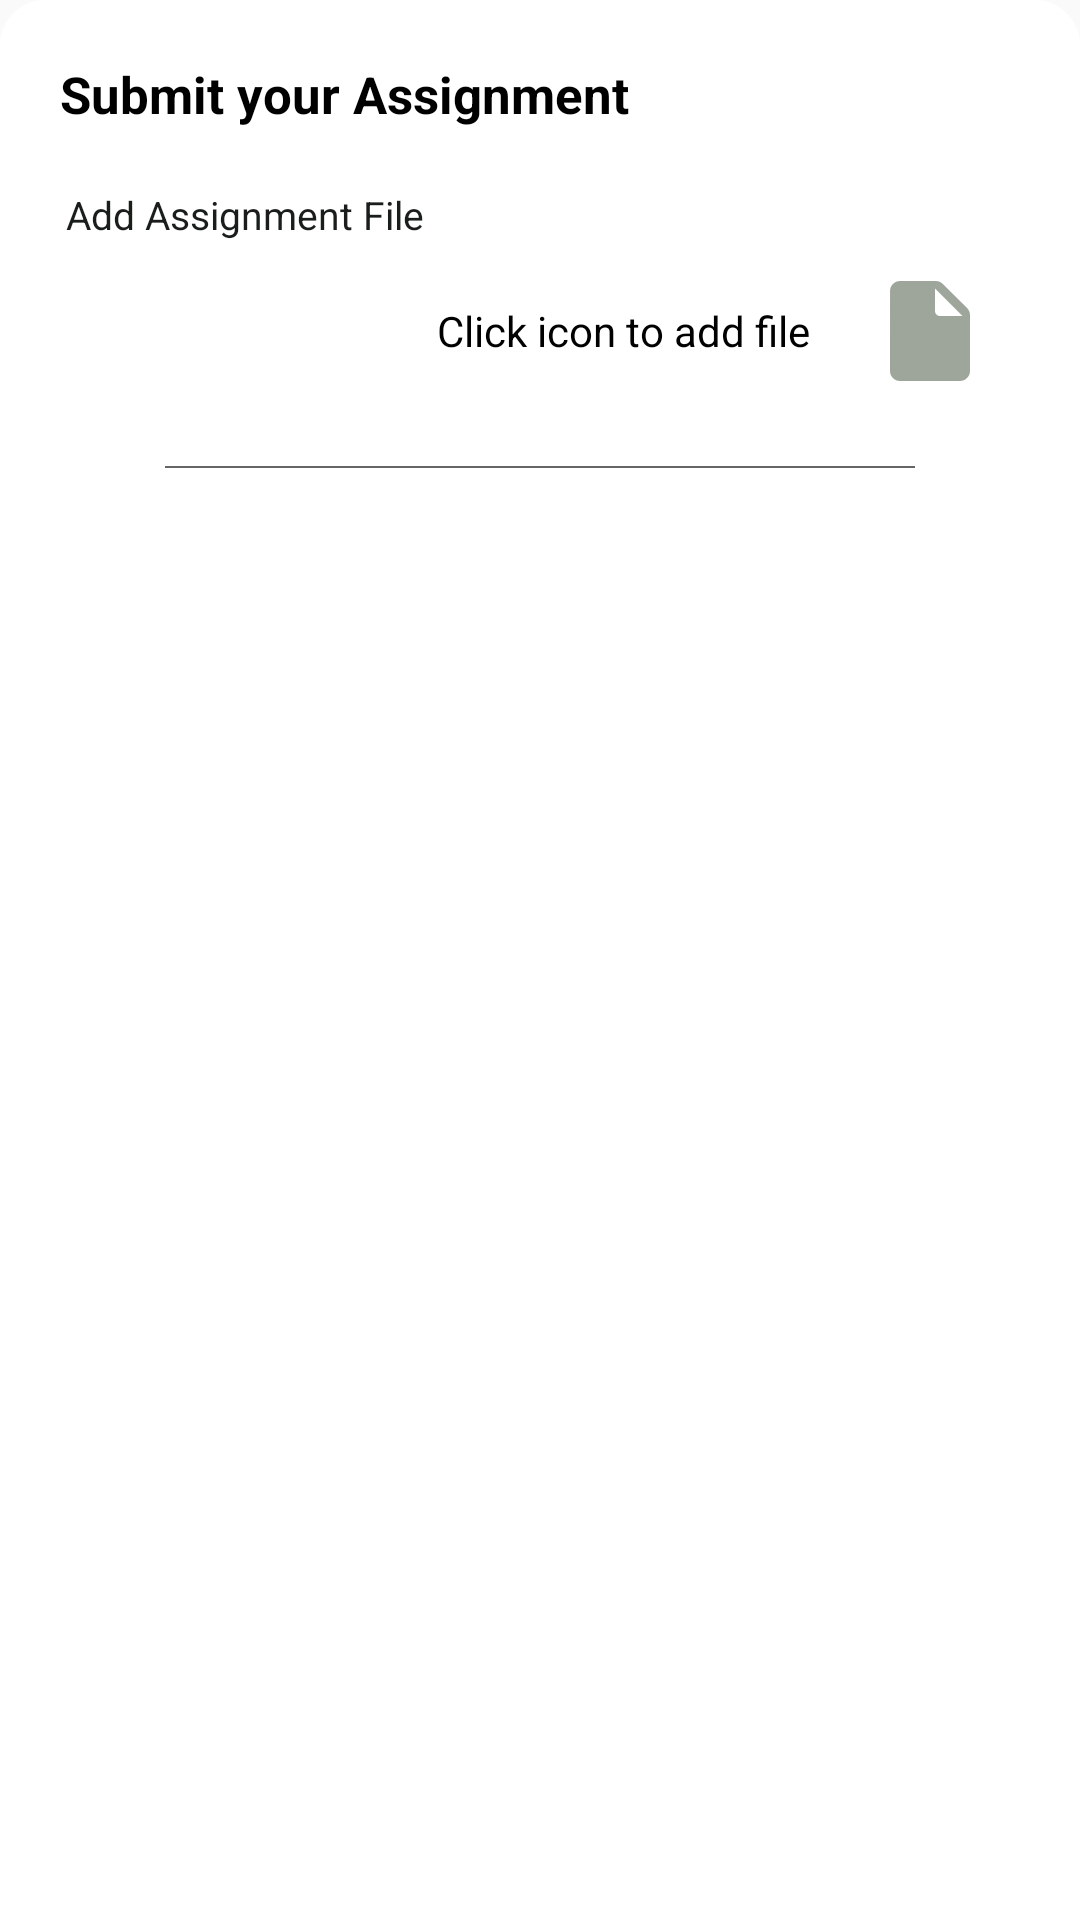

Icons on this 1080w x 1920h Android screen, each with its box as (x1=x1, y1=y1, x2=x2, y2=y2):
assignment file: (x1=890, y1=281, x2=970, y2=381)
